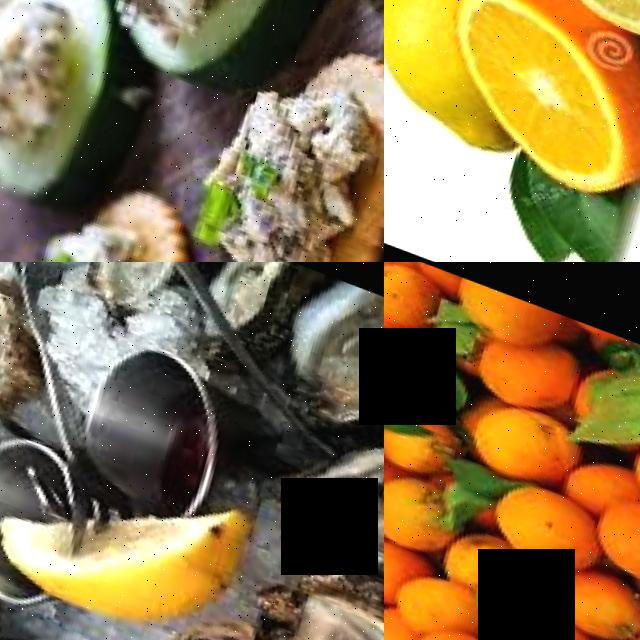orange: (491, 462, 607, 567), (468, 379, 584, 480), (471, 315, 583, 413), (535, 540, 640, 630), (393, 549, 492, 632), (384, 302, 454, 406), (384, 458, 456, 546), (499, 589, 597, 640), (384, 262, 452, 331), (402, 602, 508, 640), (384, 523, 418, 596)
oysters: (272, 262, 384, 459), (279, 401, 384, 610)
